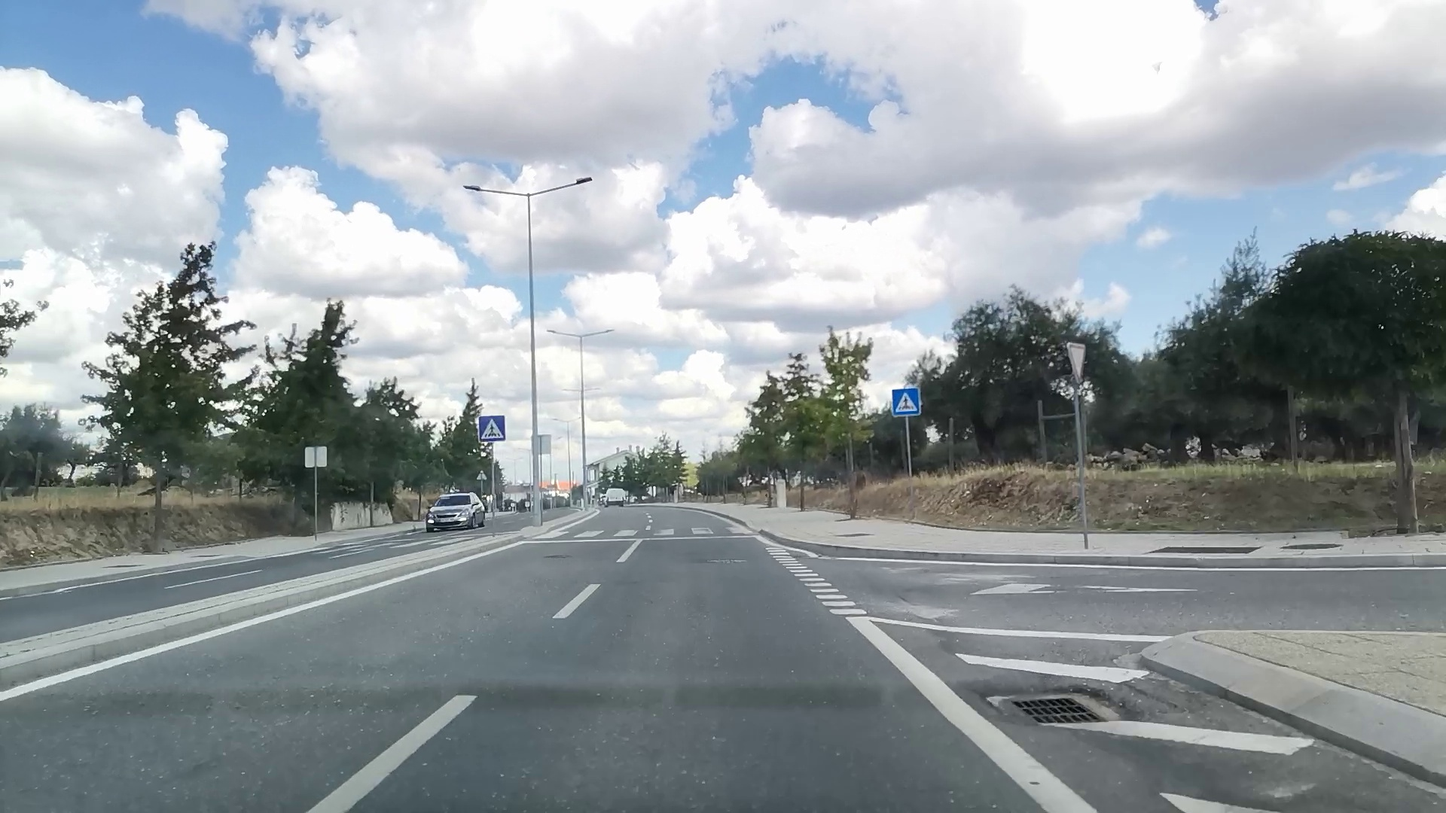Stairs: (530, 526, 754, 541)
